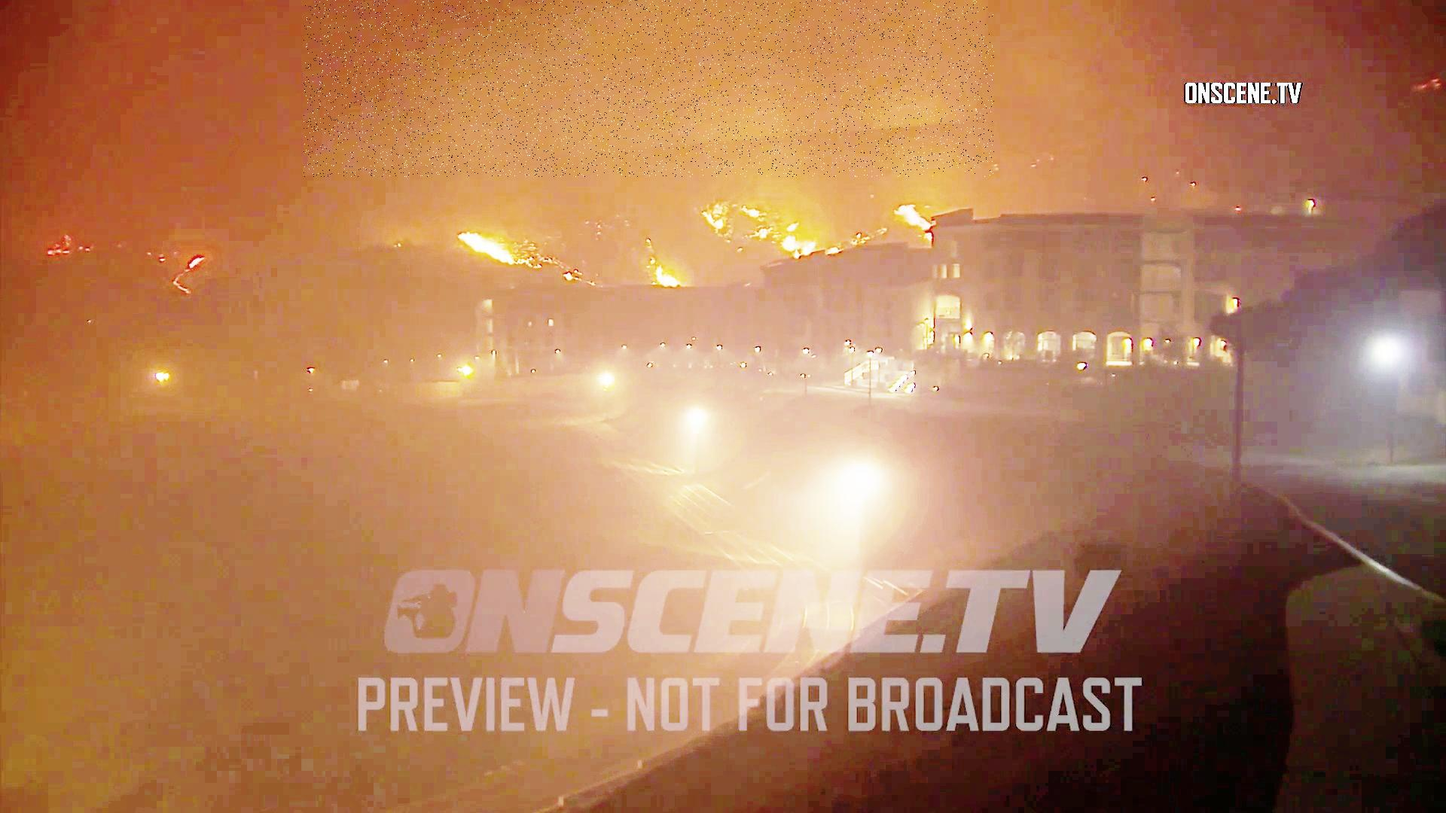smoke: (304, 0, 994, 177)
